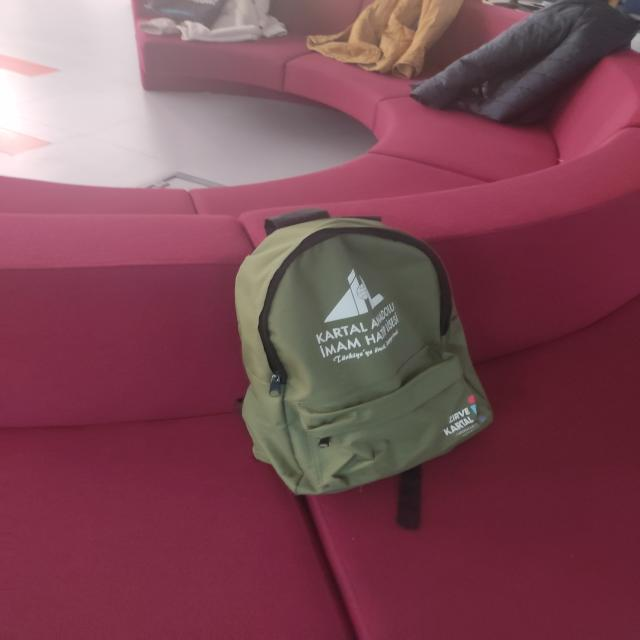bag: (206, 225, 504, 499)
